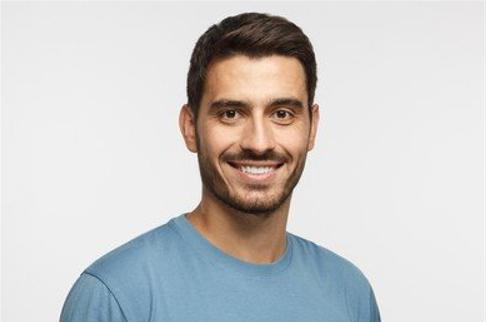Sober: (205, 54, 309, 200)
